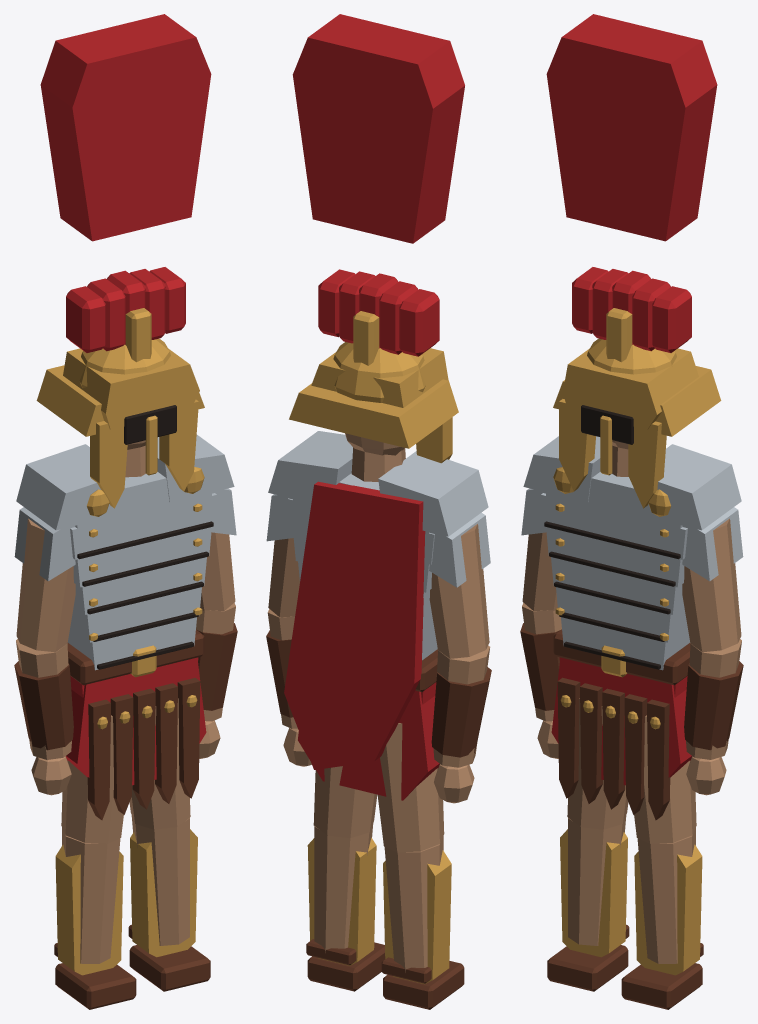
File: roman-body.glb
The picture shows the model from 3 angles, left to right: view 1: azimuth 30°, elevation 25°; view 2: azimuth 150°, elevation 25°; view 3: azimuth 330°, elevation 25°; orthographic projection.
Parts seen in each view (by area): view 1: Tunic_Torso, Helmet_Brow, Shoulder_Plate_R, UpperArm_R, Shin_R, Shin_L, Red_Skirt, Bronze_Greave_R, Bronze_Greave_L, Lorica_Segment_04, Leather_Bracer_R, Lorica_Segment_03 (+42 smaller); view 2: Red_Cape, Tunic_Torso, Helmet_Neck_Guard, Shoulder_Plate_R, UpperArm_R, Thigh_R, Shin_R, Shin_L, Red_Skirt, Shoulder_Plate_L, Leather_Bracer_R, Bronze_Greave_R (+28 smaller); view 3: Tunic_Torso, Helmet_Brow, Shoulder_Plate_L, UpperArm_L, Shin_L, Shin_R, Red_Skirt, Bronze_Greave_L, Bronze_Greave_R, Lorica_Segment_04, Leather_Bracer_L, Lorica_Segment_03 (+41 smaller).
Part boxes in pixels (x1,y1,x2,y2): Tunic_Torso: (40,14,211,241); Helmet_Brow: (63,348,199,429); Shoulder_Plate_R: (16,444,122,530); UpperArm_R: (16,518,75,652); Shin_R: (62,828,120,963); Shin_L: (131,815,189,945); Red_Skirt: (65,657,206,785); Bronze_Greave_R: (55,844,123,975); Bronze_Greave_L: (130,829,197,957); Lorica_Segment_04: (70,493,216,559); Leather_Bracer_R: (14,661,73,750); Lorica_Segment_03: (73,527,211,587); Red_Cape: (284,481,425,769); Tunic_Torso: (292,14,464,243); Helmet_Neck_Guard: (289,379,458,448); Shoulder_Plate_R: (378,451,488,536); UpperArm_R: (429,524,489,658); Thigh_R: (377,723,444,852); Shin_R: (384,836,443,972); Shin_L: (314,823,373,952); Red_Skirt: (298,690,439,800); Shoulder_Plate_L: (268,431,352,502); Leather_Bracer_R: (431,667,491,757); Bronze_Greave_R: (383,850,451,984); Tunic_Torso: (546,14,717,241); Helmet_Brow: (563,348,698,429); Shoulder_Plate_L: (634,444,741,530); UpperArm_L: (682,518,741,652); Shin_L: (637,828,695,963); Shin_R: (568,815,626,945); Red_Skirt: (551,657,692,785); Bronze_Greave_L: (634,844,702,975); Bronze_Greave_R: (560,829,627,957); Lorica_Segment_04: (541,493,687,559); Leather_Bracer_L: (684,661,743,750); Lorica_Segment_03: (546,527,684,587).
Size of the model in its own units: 39.13 by 163 by 17.95.
